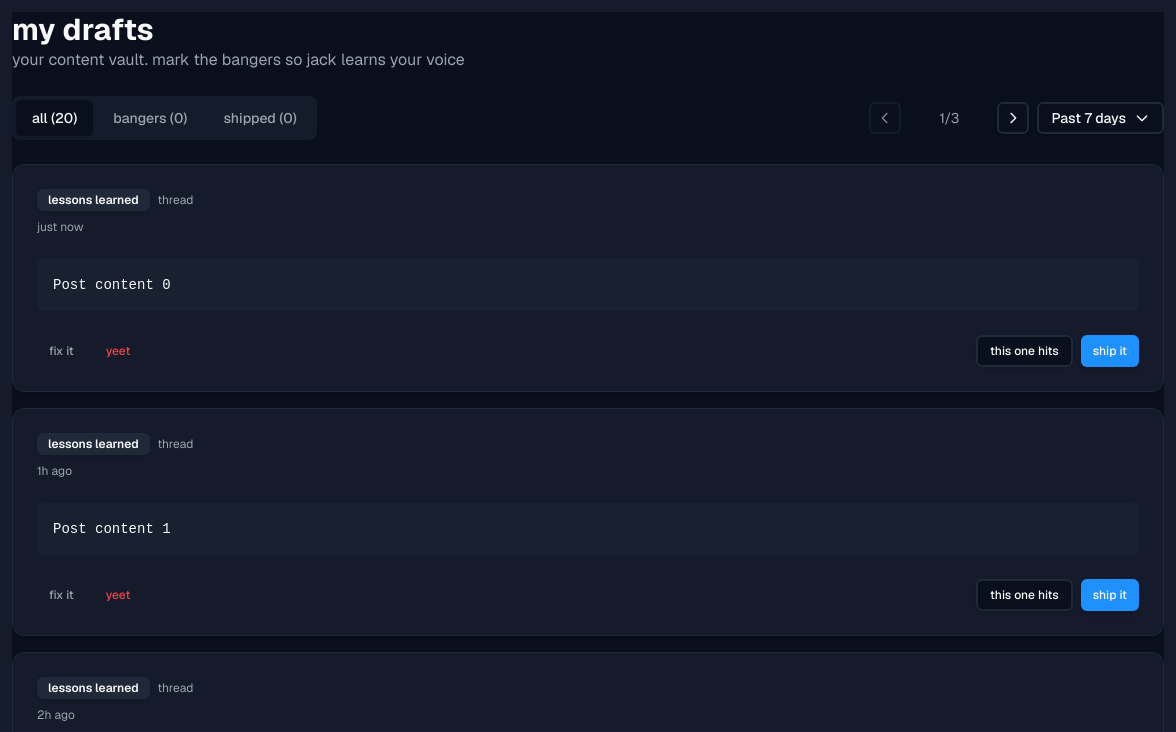
it: Posts List - Pagination Integration › Page Navigation › should navigate to next page when next button is clicked
This screenshot has width=1176, height=732.
Expected: the text "1/3" is shown, [940,109,959,127]
Expected: the text "Post content 0" is shown, [37,259,1139,311]
Click the button named "Next page". click: {"x": 1013, "y": 118}
box: [997,102,1029,134]
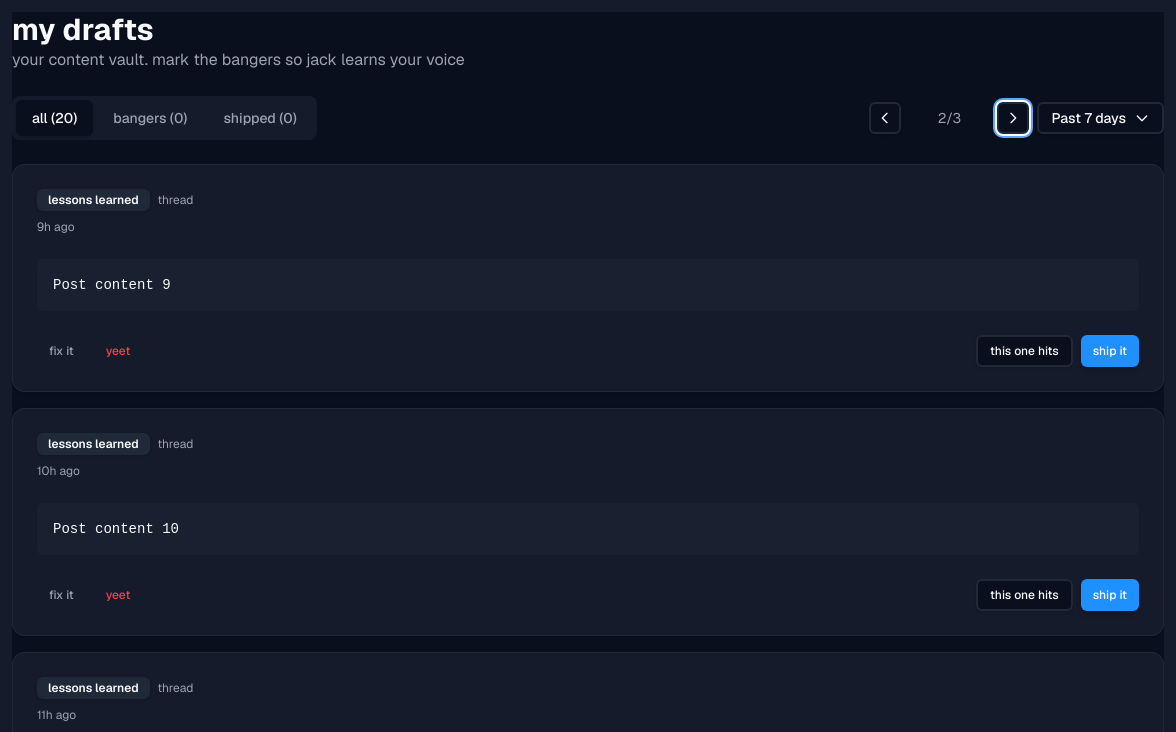
Now the text "2/3" is shown, box [938,109,961,127]
Now the text "Post content 9" is shown, box [37,259,1139,311]
Now the text "Post content 0" is gone
